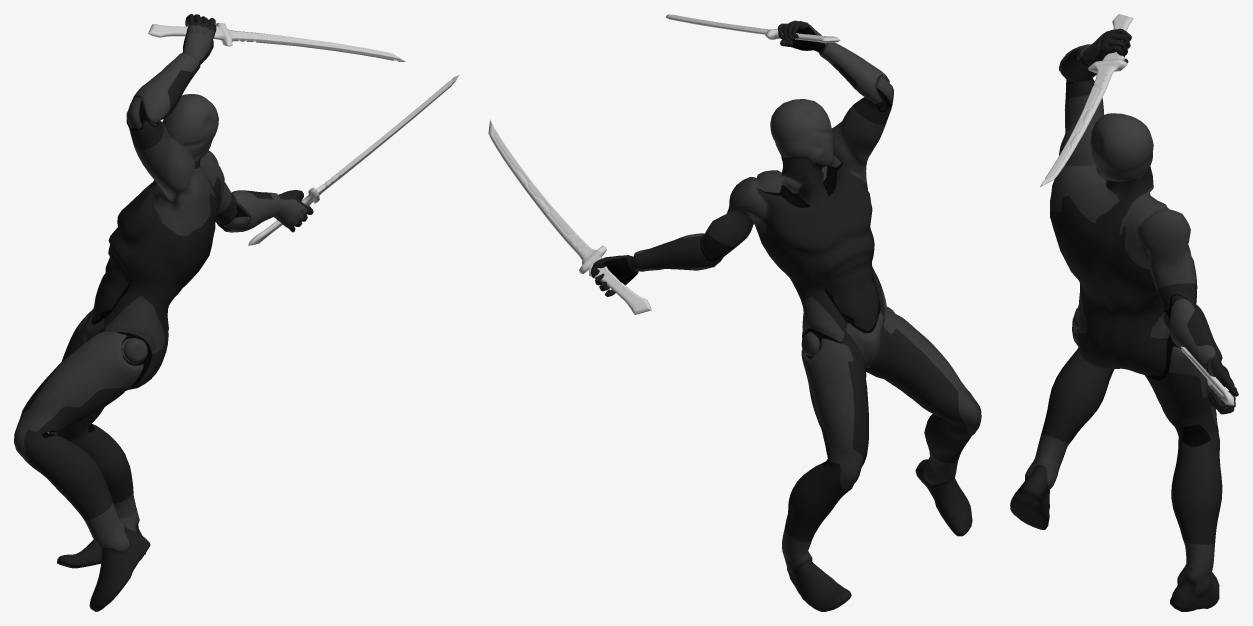
3 views of the same model, side by side, from view 1: azimuth 30°, elevation 25°; view 2: azimuth 150°, elevation 25°; view 3: azimuth 270°, elevation 25° (orthographic). The views are drawn at different scales.
Visible parts, largest first — view 1: Cyborg_Ninja_Killer, Sword_l, Sword_l001; view 2: Cyborg_Ninja_Killer, Sword_l001, Sword_l; view 3: Cyborg_Ninja_Killer, Sword_l, Sword_l001.
Boxes of the visible parts, bbox=[...] form: Cyborg_Ninja_Killer: bbox=[14, 14, 313, 611]; Sword_l: bbox=[148, 23, 405, 61]; Sword_l001: bbox=[248, 74, 459, 245]; Cyborg_Ninja_Killer: bbox=[590, 20, 981, 611]; Sword_l001: bbox=[488, 119, 651, 314]; Sword_l: bbox=[666, 14, 840, 42]; Cyborg_Ninja_Killer: bbox=[1010, 28, 1238, 611]; Sword_l: bbox=[1040, 14, 1133, 186]; Sword_l001: bbox=[1181, 346, 1235, 407].
Bounding box in the file's own units: 182 × 206 × 70.28.
